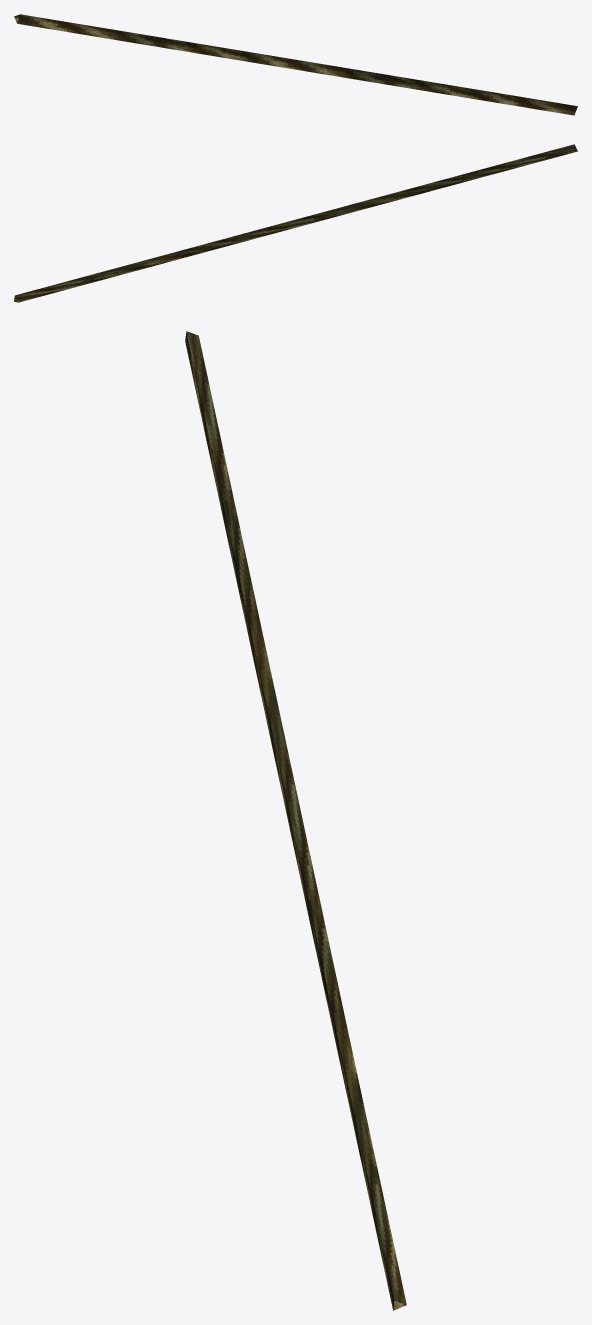
The model's file is OVERHILL_A_01_LINE171.fbx.
3 renders of one model, top to bottom at view 1: azimuth 30°, elevation 25°; view 2: azimuth 150°, elevation 25°; view 3: azimuth 270°, elevation 25°, orthographic. The views are drawn at different scales.
Parts seen in each view (by area): view 1: OVERHILL_A_01_LINE171; view 2: OVERHILL_A_01_LINE171; view 3: OVERHILL_A_01_LINE171.
Part boxes in pixels (x1=…): OVERHILL_A_01_LINE171: x1=14, y1=14, x2=577, y2=115; OVERHILL_A_01_LINE171: x1=14, y1=144, x2=577, y2=302; OVERHILL_A_01_LINE171: x1=185, y1=331, x2=406, y2=1310.
Bounding box in the file's own units: 33325 × 15190 × 6263.
1 material, 1 textured.
